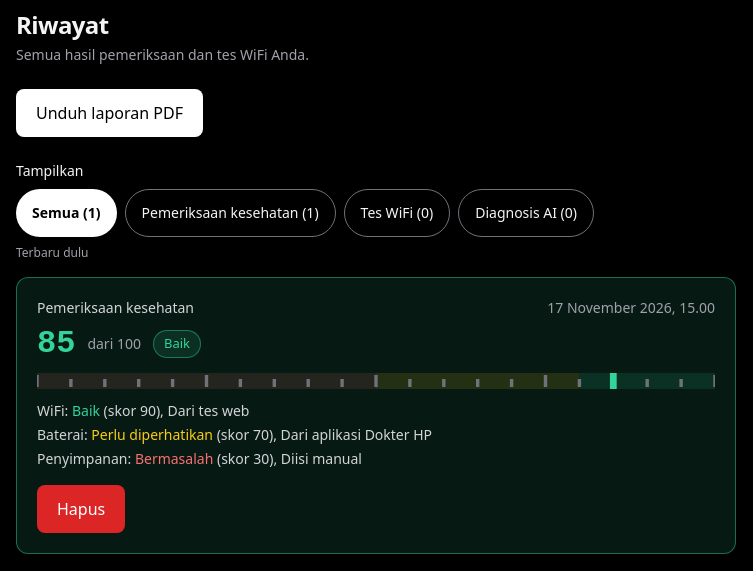
Scenario: RiwayatPage v2.0 › filter kosong: pesan per filter tanpa CTA
This screenshot has width=753, height=571.
Click the button "Tes WiFi (0)" at [397, 213], box top-left (344, 189), bottom-right (450, 237)
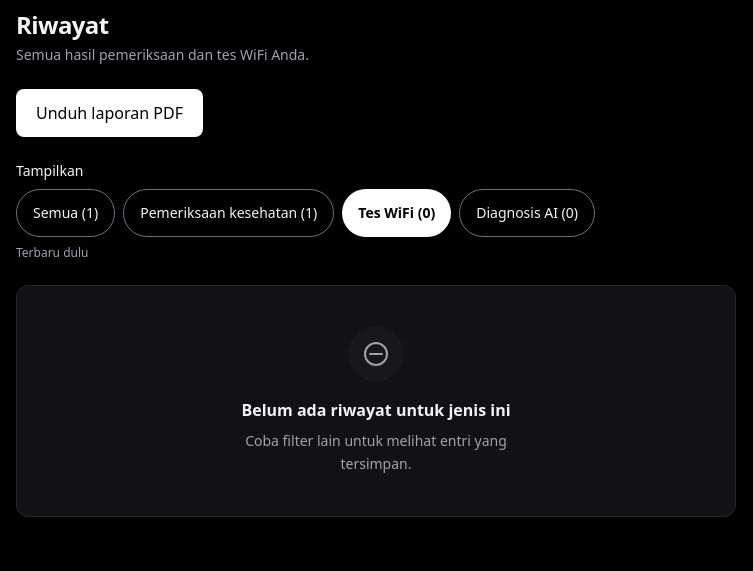
Expected: the text "Belum ada riwayat untuk jenis ini" is shown, top-left (241, 398), bottom-right (510, 422)
